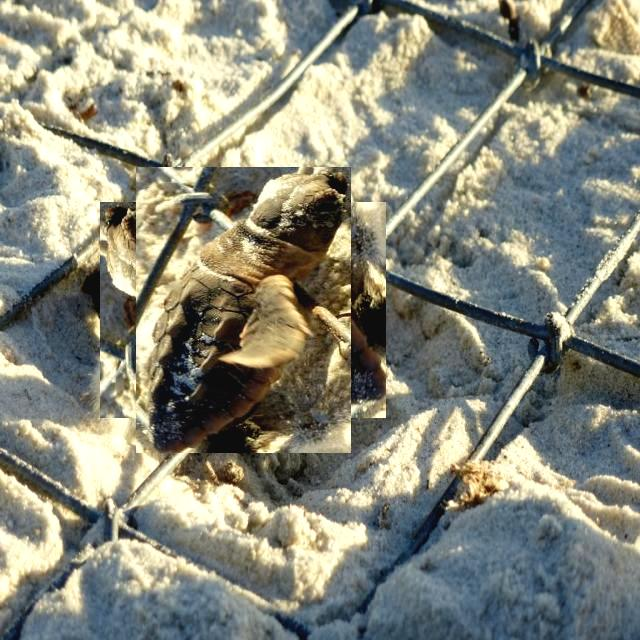Sea turtle: (117, 185, 369, 436)
